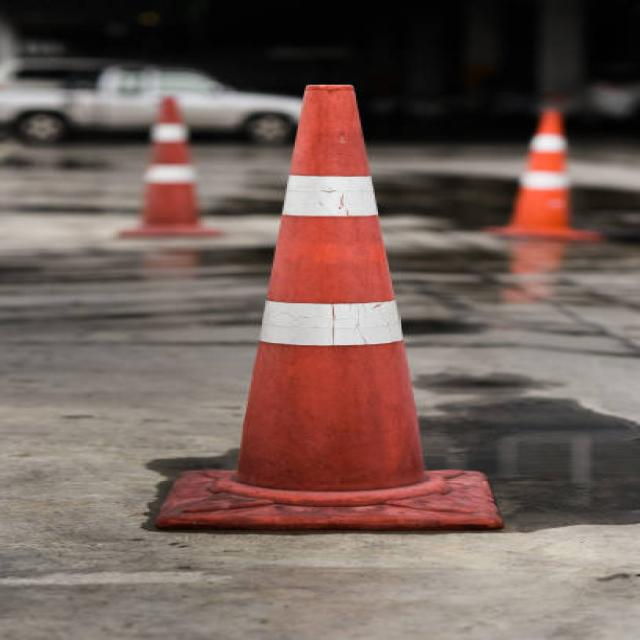Traffic Cone: (112, 62, 534, 552)
